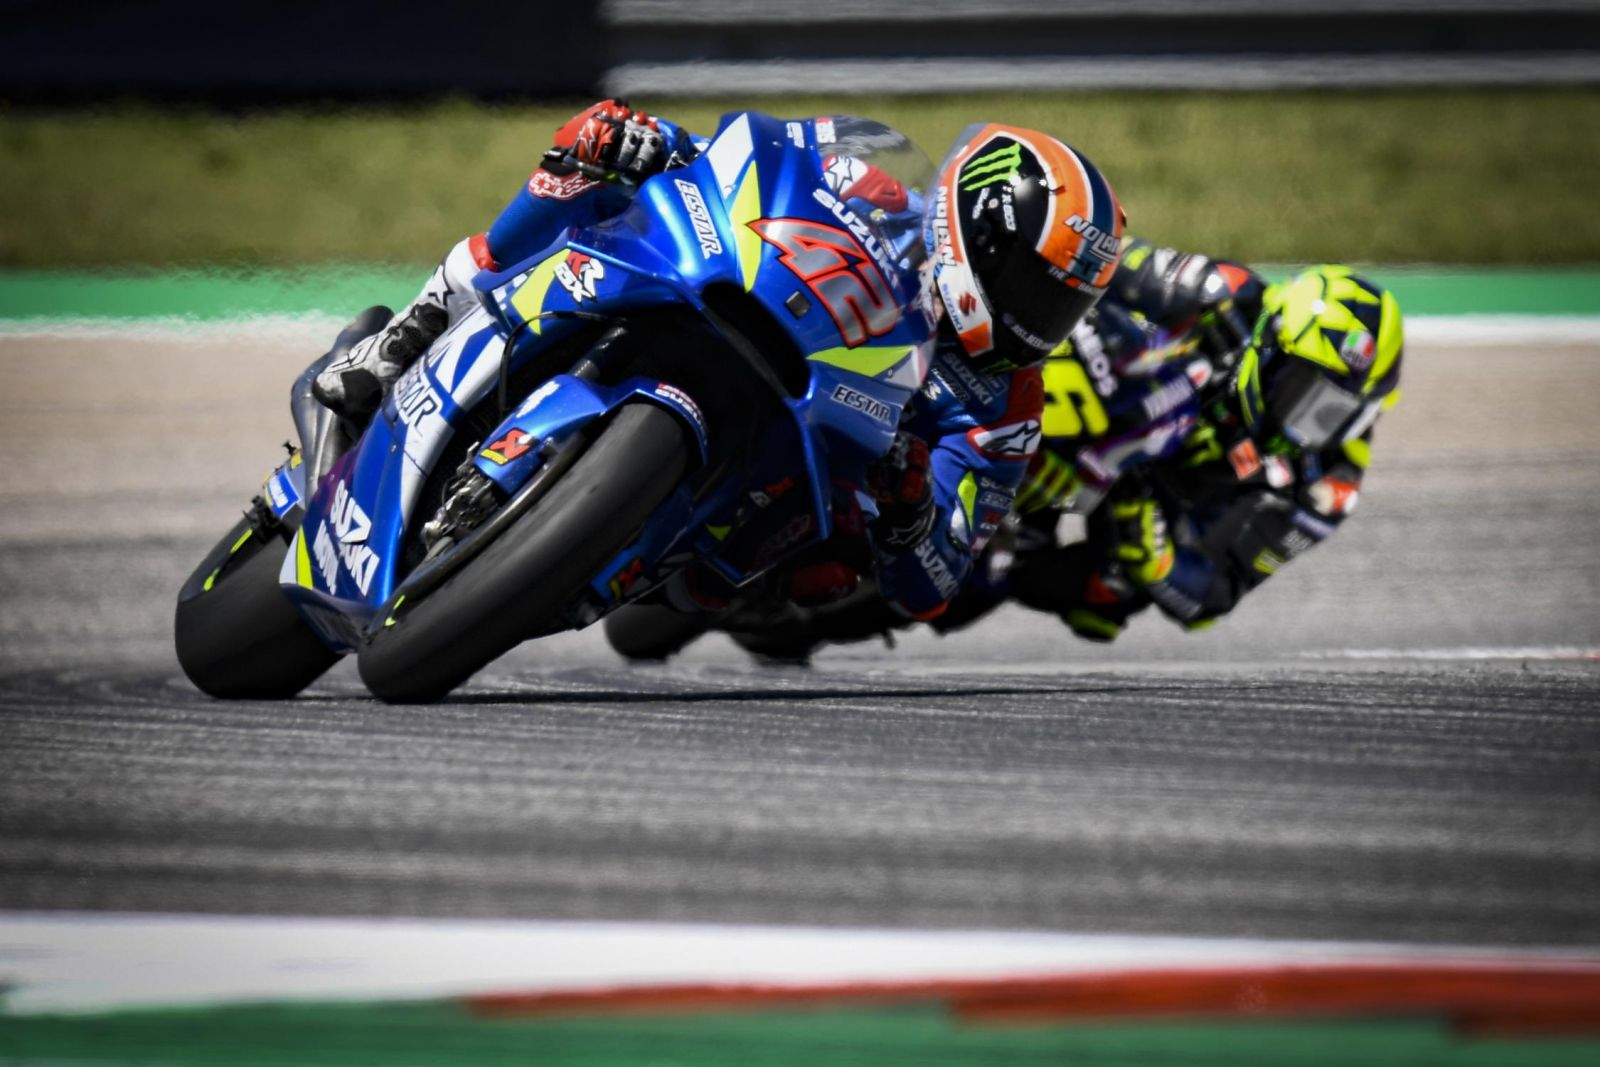helmet: (919, 92, 1101, 359), (1263, 225, 1413, 454)
